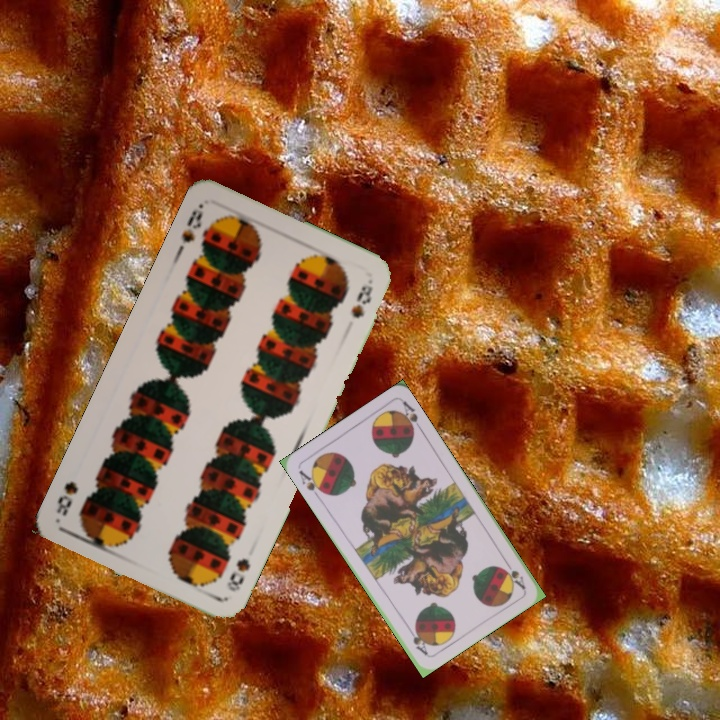S8: (177, 199, 207, 245), (222, 554, 253, 595)
SA: (294, 466, 328, 501), (499, 556, 528, 592)
